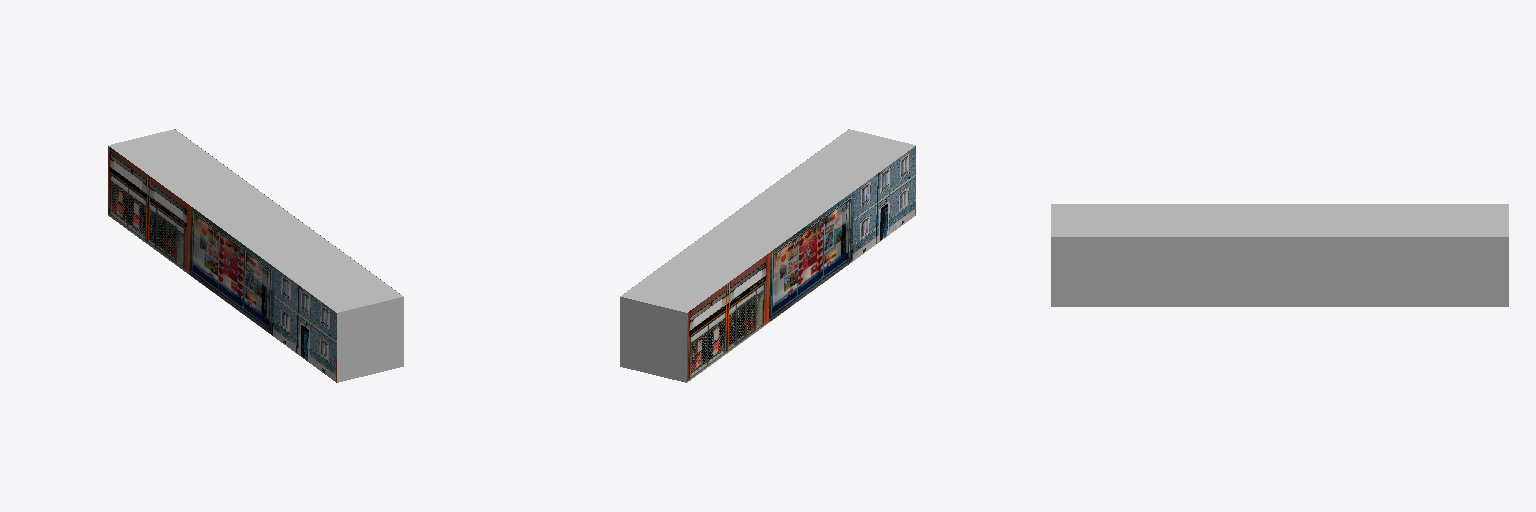
3 renders of one model, left to right at view 1: azimuth 30°, elevation 25°; view 2: azimuth 150°, elevation 25°; view 3: azimuth 270°, elevation 25°, orthographic.
Parts seen in each view (by area): view 1: Plano.006_Plano.022, Plano.007_Plano.023, Plano.016_Plano.030; view 2: Plano.006_Plano.022, Plano.007_Plano.023, Plano.015_Plano.029; view 3: Plano.010_Plano.026, Plano.007_Plano.023.
Boxes of the visible parts, <box> form: Plano.006_Plano.022: <box>108,146,336,382</box>; Plano.007_Plano.023: <box>108,129,403,312</box>; Plano.016_Plano.030: <box>337,297,403,382</box>; Plano.006_Plano.022: <box>687,146,915,382</box>; Plano.007_Plano.023: <box>620,129,915,312</box>; Plano.015_Plano.029: <box>620,297,686,382</box>; Plano.010_Plano.026: <box>1051,237,1508,306</box>; Plano.007_Plano.023: <box>1051,204,1508,236</box>.
Size of the model in its own units: 15.31 by 15.25 by 90.
Materials: 4 (1 with a texture image).